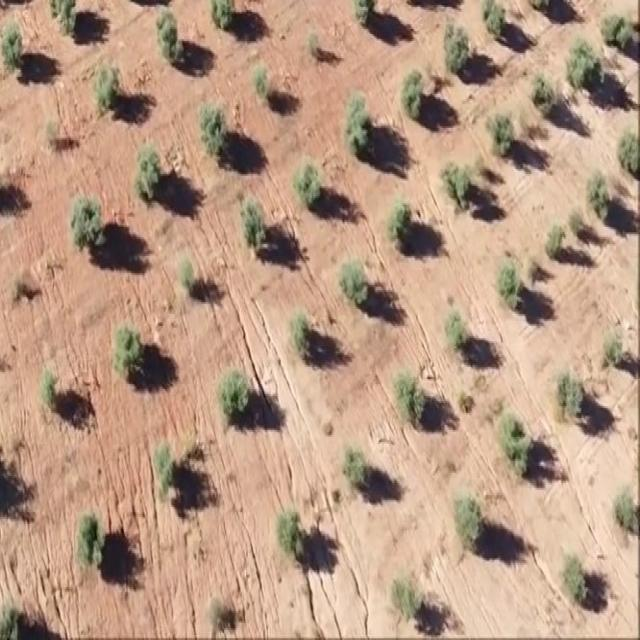trees: (63, 171, 111, 256), (553, 536, 605, 614), (208, 351, 252, 437), (148, 427, 188, 521), (443, 483, 492, 555), (496, 400, 534, 489), (390, 568, 444, 628), (70, 499, 110, 579), (338, 423, 378, 503), (580, 149, 628, 215), (194, 86, 233, 167), (558, 34, 604, 102), (548, 360, 594, 428), (232, 181, 272, 259), (338, 80, 377, 159), (436, 10, 477, 84), (109, 307, 146, 388), (380, 192, 419, 268), (87, 49, 128, 120), (130, 136, 165, 218), (278, 488, 316, 561), (389, 362, 431, 428), (292, 151, 331, 222), (606, 467, 639, 547), (440, 151, 476, 222), (597, 312, 640, 370), (153, 0, 191, 63), (0, 10, 34, 79), (393, 61, 432, 120), (616, 97, 640, 191), (337, 246, 371, 312), (523, 61, 555, 131), (593, 4, 640, 51), (437, 298, 472, 360), (35, 359, 69, 421), (282, 307, 314, 372), (481, 104, 517, 161), (492, 245, 523, 311), (48, 0, 91, 47), (534, 210, 568, 268), (245, 57, 272, 117), (36, 104, 66, 157), (171, 245, 199, 298), (300, 12, 328, 65), (476, 0, 508, 45), (562, 199, 590, 245), (507, 544, 508, 546)
